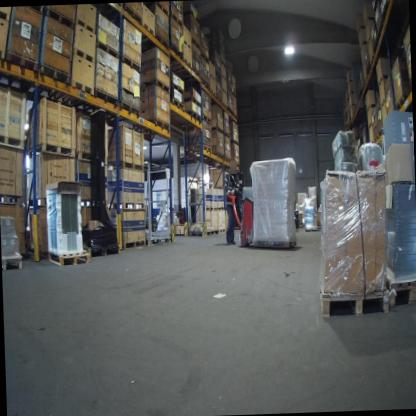pallet: (318, 273, 390, 323), (386, 269, 416, 319), (7, 47, 42, 88), (27, 141, 76, 160), (44, 6, 76, 35), (41, 60, 72, 88), (44, 248, 92, 266), (1, 249, 28, 275), (252, 236, 298, 251), (93, 86, 120, 109), (105, 159, 145, 174), (96, 38, 121, 62), (72, 44, 97, 66), (0, 132, 29, 150), (0, 189, 25, 209), (105, 200, 146, 212), (121, 52, 142, 75), (72, 18, 97, 37), (124, 3, 143, 27), (142, 78, 172, 93), (70, 79, 96, 96), (184, 106, 204, 126), (363, 17, 375, 48), (120, 99, 141, 116), (148, 120, 171, 135), (28, 194, 50, 209), (169, 95, 187, 113), (119, 239, 147, 250), (170, 44, 186, 63), (141, 19, 156, 38), (185, 145, 212, 155), (357, 25, 367, 52), (171, 11, 184, 31), (155, 3, 171, 19), (155, 33, 170, 50), (171, 81, 187, 96), (189, 228, 215, 237), (28, 6, 46, 18), (395, 94, 407, 112), (186, 95, 201, 108), (190, 66, 203, 80), (190, 36, 201, 52), (76, 151, 91, 162), (0, 8, 11, 23), (377, 71, 390, 83), (182, 57, 193, 71), (201, 78, 211, 93), (201, 114, 212, 127), (213, 149, 225, 160), (366, 99, 377, 111), (303, 225, 319, 233), (201, 52, 209, 67), (212, 126, 225, 134), (203, 204, 215, 212), (373, 133, 380, 146), (0, 45, 6, 60), (216, 204, 226, 213), (214, 228, 225, 236), (370, 54, 377, 66), (362, 55, 368, 68), (182, 39, 189, 50), (210, 87, 217, 98), (223, 130, 231, 139), (230, 139, 239, 147), (379, 129, 385, 141), (209, 72, 216, 82), (220, 59, 227, 69), (226, 84, 233, 94), (367, 121, 374, 131), (381, 96, 386, 109), (348, 91, 356, 99), (222, 101, 228, 111), (364, 72, 369, 84), (224, 156, 232, 163), (228, 106, 234, 115), (217, 96, 223, 104), (221, 73, 227, 81), (232, 112, 238, 120), (350, 103, 356, 110), (347, 79, 353, 86), (222, 88, 227, 96), (81, 199, 89, 204), (231, 92, 236, 98)
pallet_truck: (225, 185, 298, 254)
